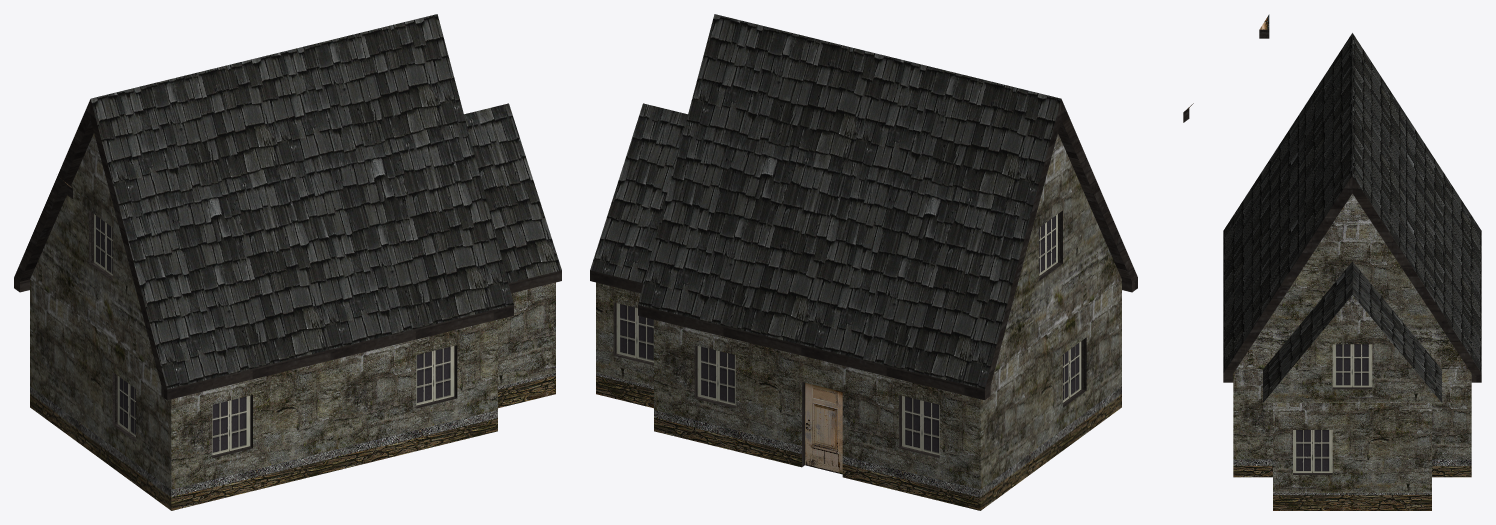
The model's file is Townhouse_02.dae.
3 views of the same model, side by side, from view 1: azimuth 30°, elevation 25°; view 2: azimuth 150°, elevation 25°; view 3: azimuth 270°, elevation 25° (orthographic). The views are drawn at different scales.
Parts seen in each view (by area): view 1: BSP.012; view 2: BSP.012; view 3: BSP.012.
Part boxes in pixels (x1=…): BSP.012: x1=14, y1=14, x2=561, y2=510; BSP.012: x1=590, y1=14, x2=1193, y2=510; BSP.012: x1=1223, y1=14, x2=1481, y2=510.
Size of the model in its own units: 14.77 by 7.8 by 10.2.
